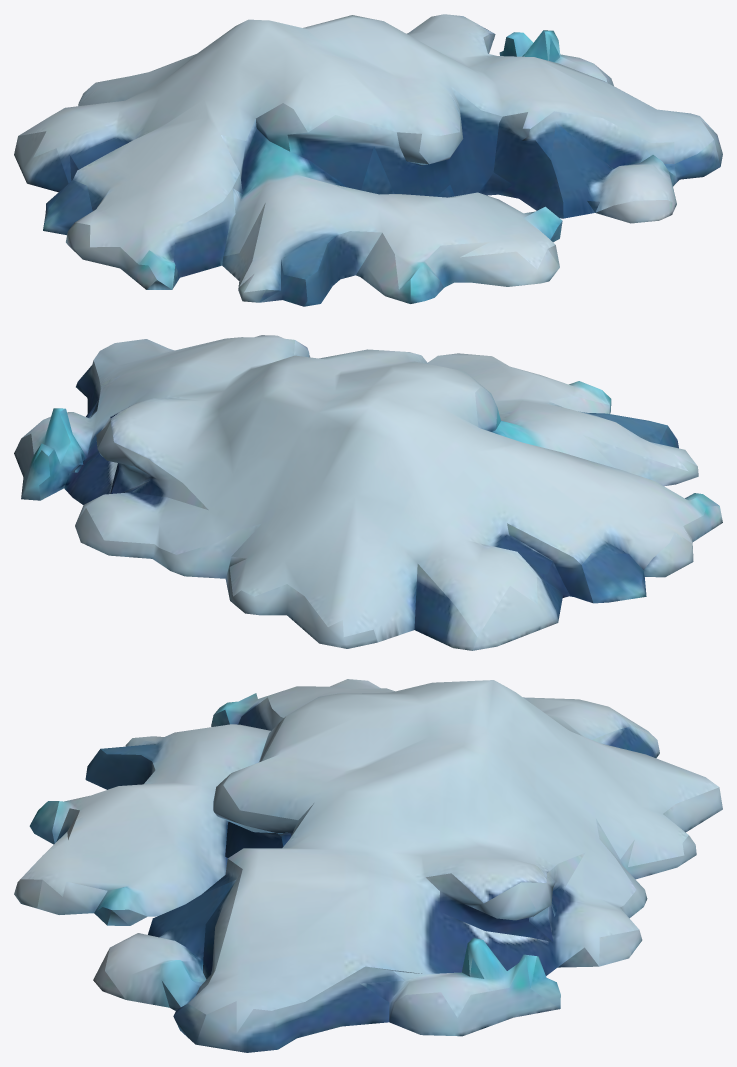
Rendered from d_givre_pied.glb.
3 views of the same model, one above another, from view 1: azimuth 30°, elevation 25°; view 2: azimuth 150°, elevation 25°; view 3: azimuth 270°, elevation 25° (orthographic). The views are drawn at different scales.
Visible parts, largest first — view 1: geometry_0; view 2: geometry_0; view 3: geometry_0.
Part boxes in pixels (x1=…): geometry_0: x1=14, y1=14, x2=722, y2=306; geometry_0: x1=14, y1=335, x2=722, y2=650; geometry_0: x1=14, y1=679, x2=722, y2=1052.
Size of the model in its own units: 1 by 0.2245 by 0.8692.
1 material, 1 textured.
